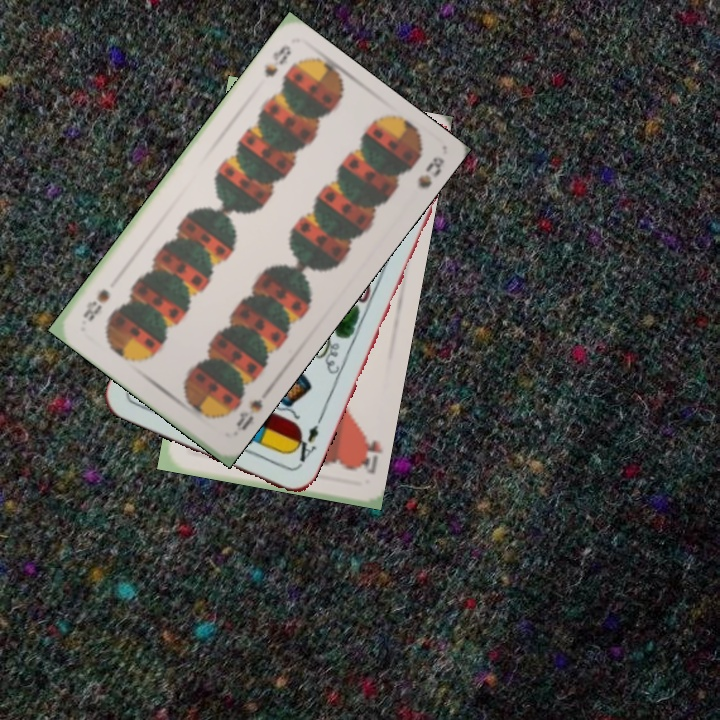EA: (287, 420, 321, 470)
HO: (352, 427, 384, 477)
S8: (260, 40, 294, 80), (232, 395, 266, 433)
